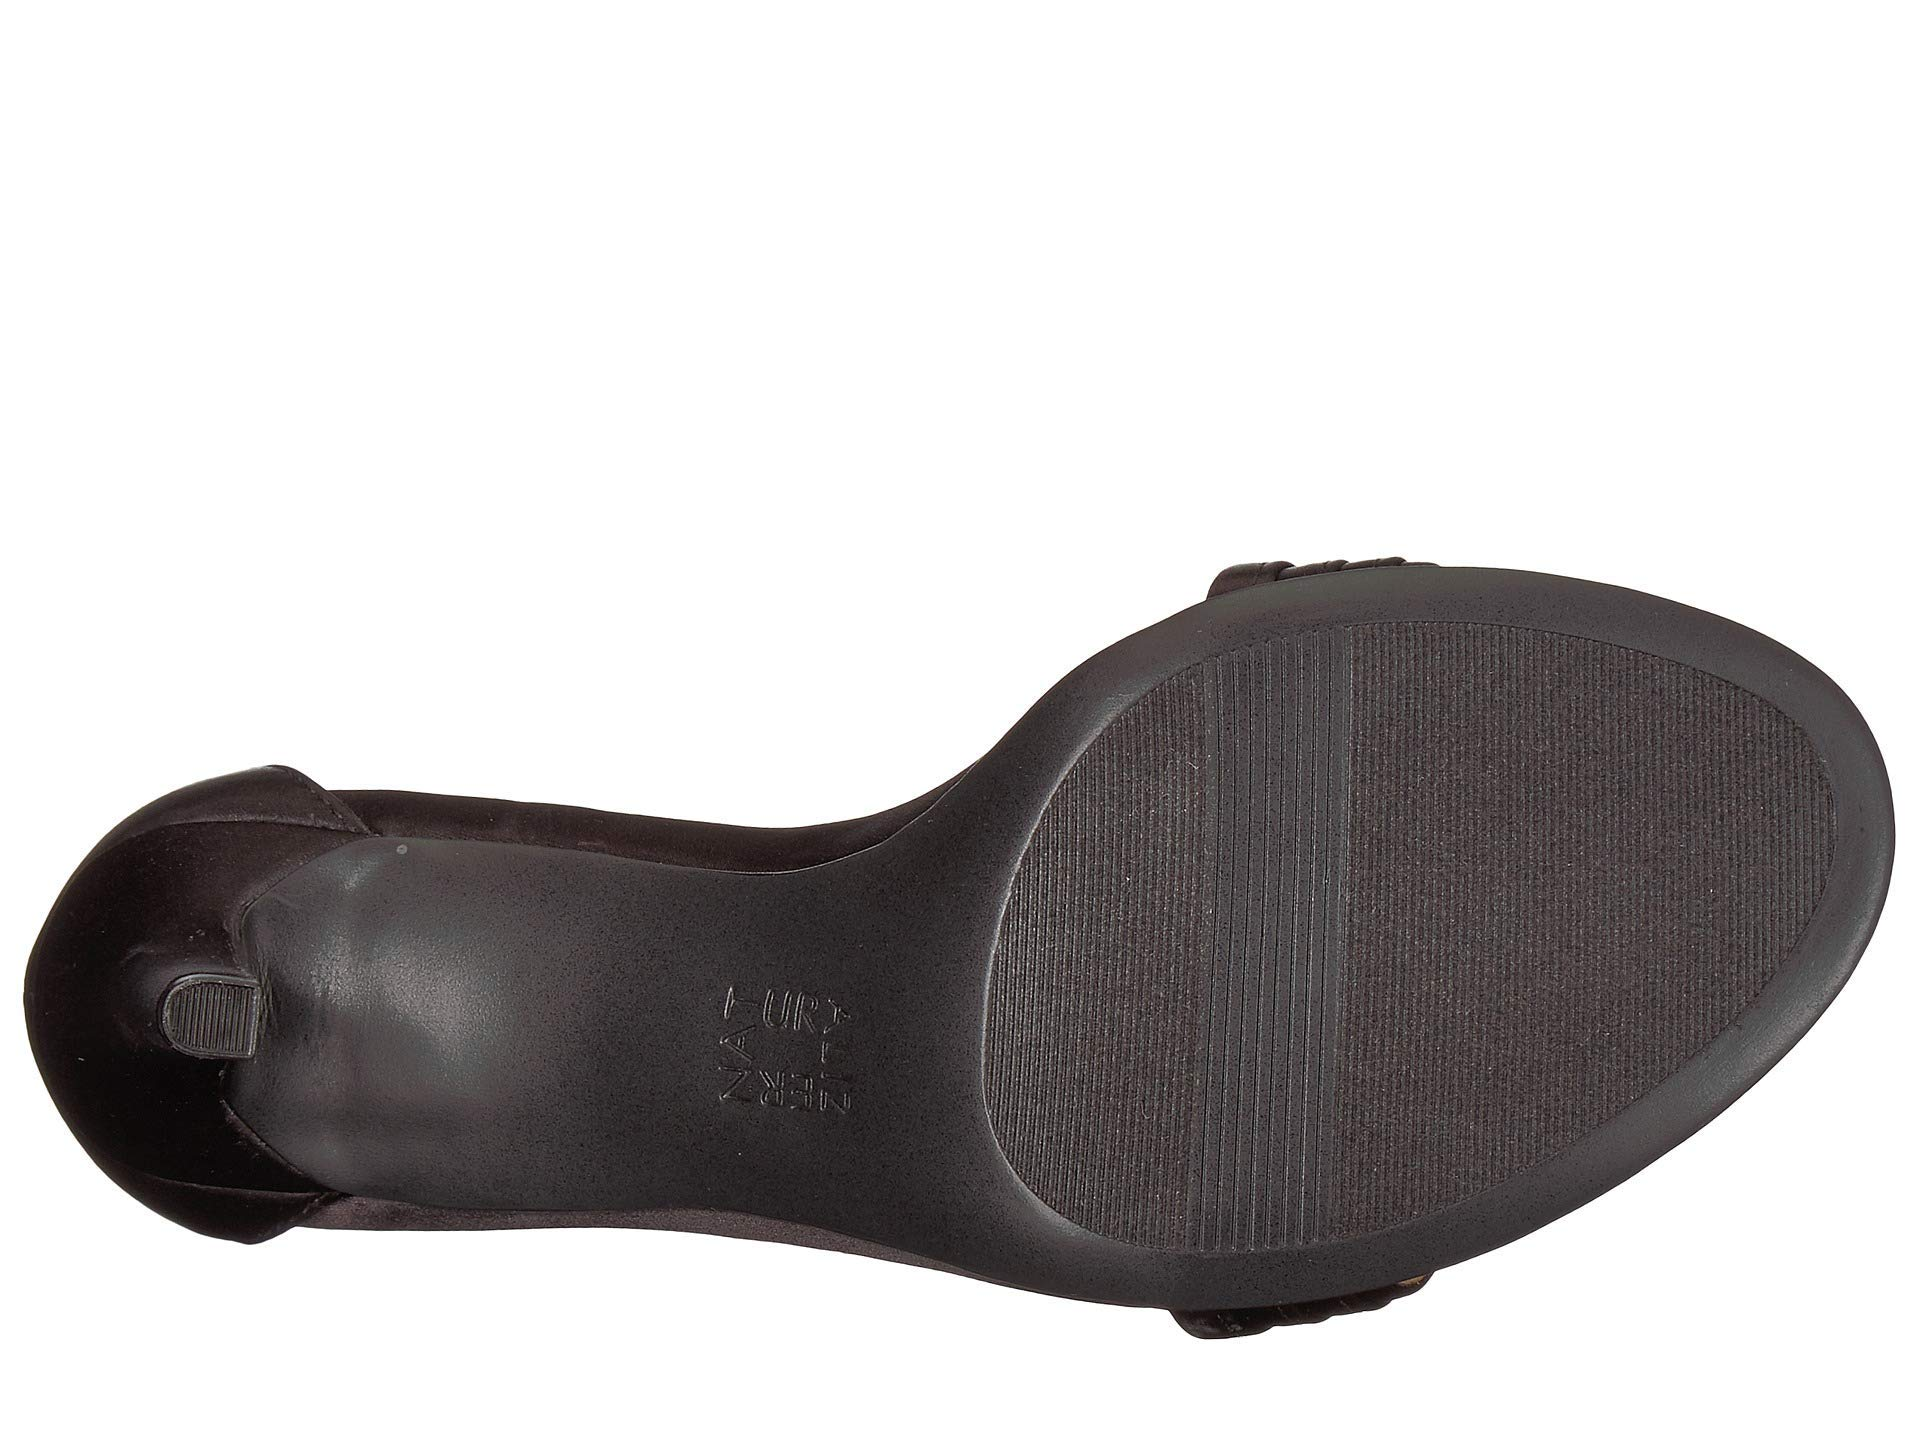exclude: (299, 740, 909, 1317)
line: (1420, 694, 1749, 973), (1214, 638, 1339, 1218), (160, 973, 274, 1062)
quad: (160, 973, 274, 1062)
